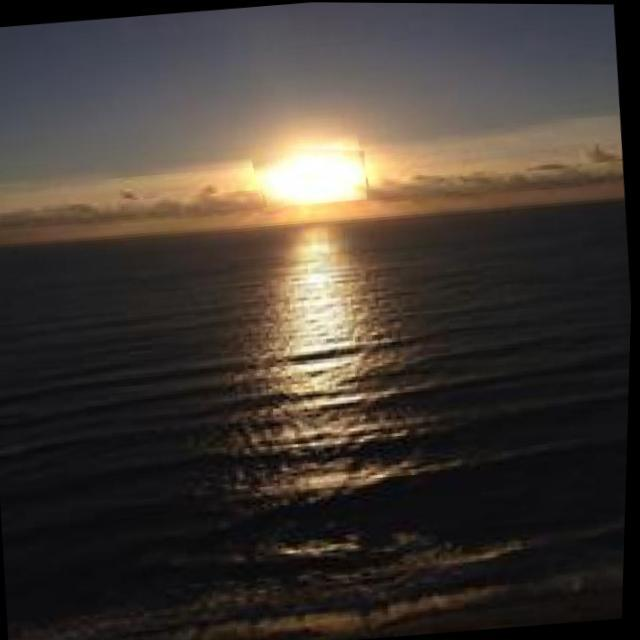sun: (259, 148, 366, 204)
